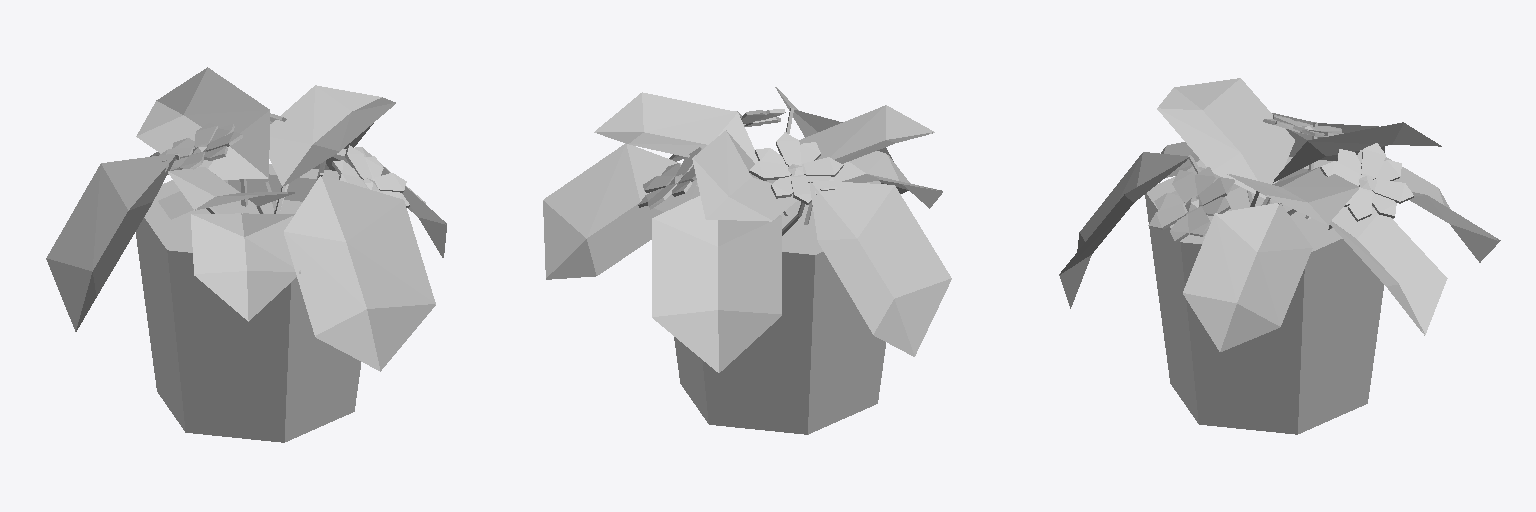
Rendered from flower_001.obj.
3 views of the same model, side by side, from view 1: azimuth 30°, elevation 25°; view 2: azimuth 150°, elevation 25°; view 3: azimuth 270°, elevation 25° (orthographic).
Visible parts, largest first — view 1: flower_001; view 2: flower_001; view 3: flower_001.
Boxes of the visible parts, box(x1,y1,x2,y2) form: flower_001: box(46, 67, 446, 442); flower_001: box(543, 87, 951, 434); flower_001: box(1059, 78, 1500, 434).
Size of the model in its own units: 0.3479 by 0.2718 by 0.3874.